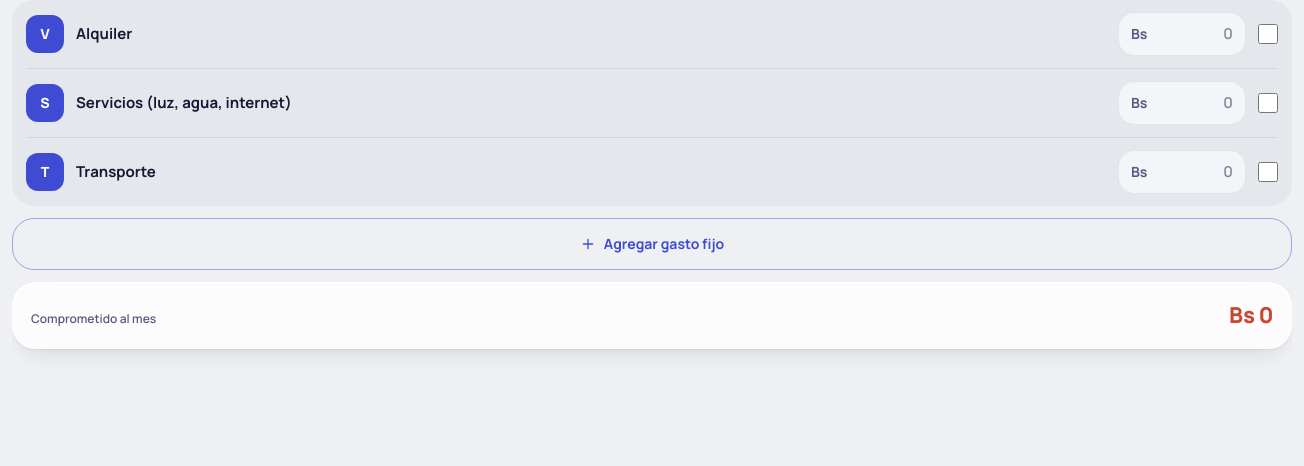
Test: step fields › RF-6 offers rent, utilities and transport and adds more rows
Expected: the text "Alquiler" is shown, [76,23,132,44]
Expected: the text "Servicios (luz, agua, internet)" is shown, [76,92,292,113]
Click the button "Agregar gasto fijo" at (652, 244), box [12,218,1292,270]
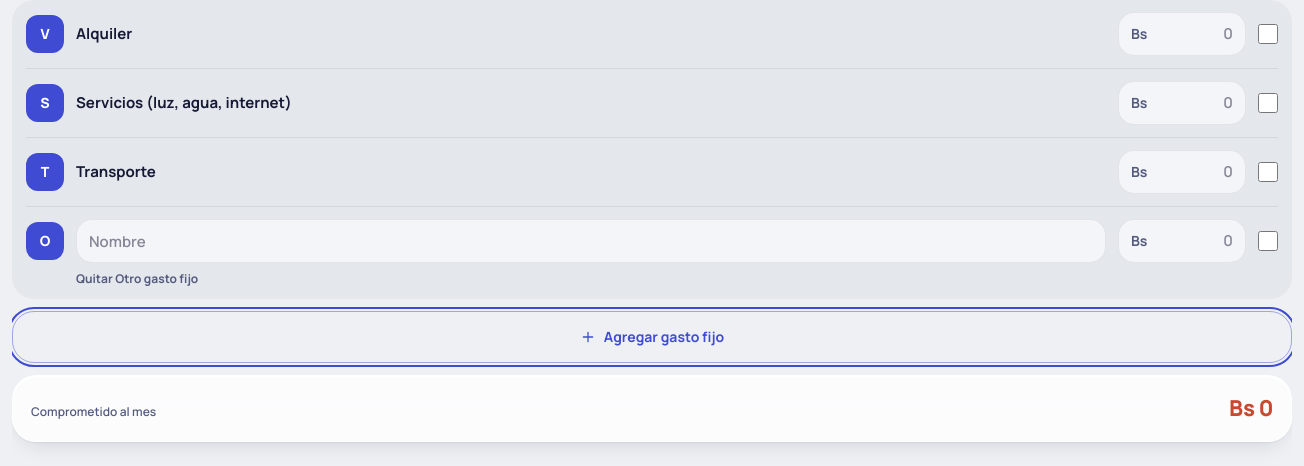
Expected: the field labelled "Nombre" is shown, [76,219,1106,263]
Click the button "Quitar Otro gasto fijo" at (137, 279), box [76,271,198,287]
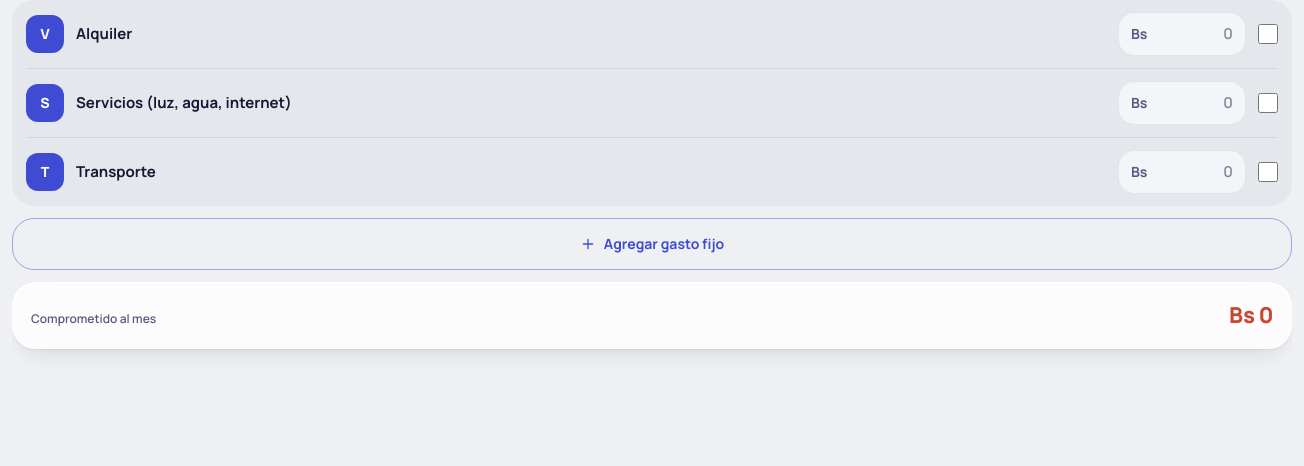
Expected: the field labelled "Nombre" is gone
